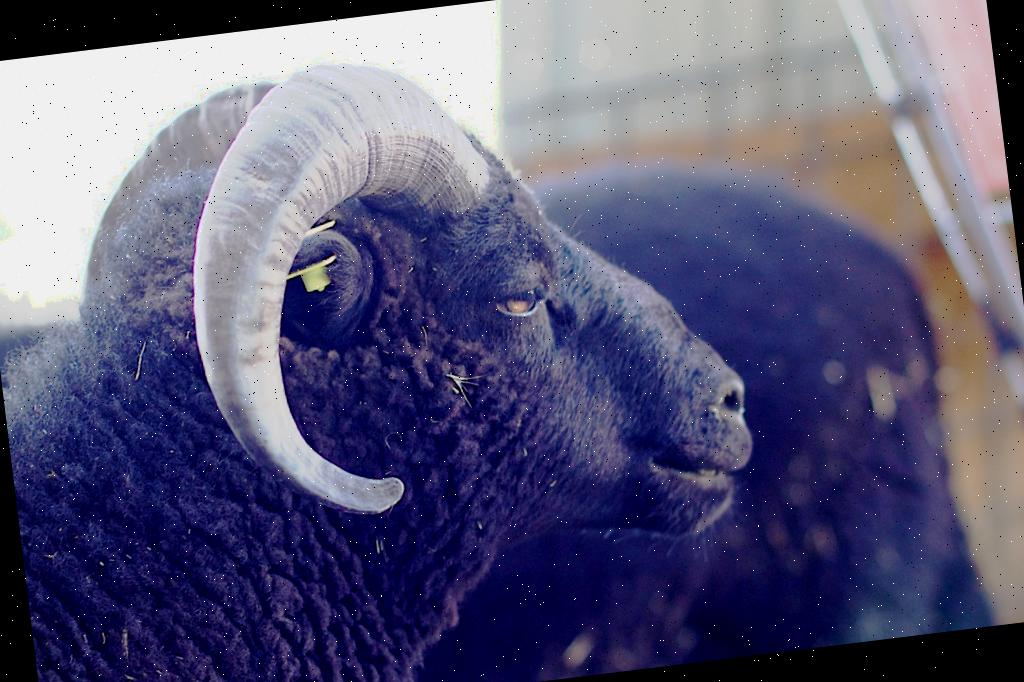Sheep: (7, 11, 801, 682)
